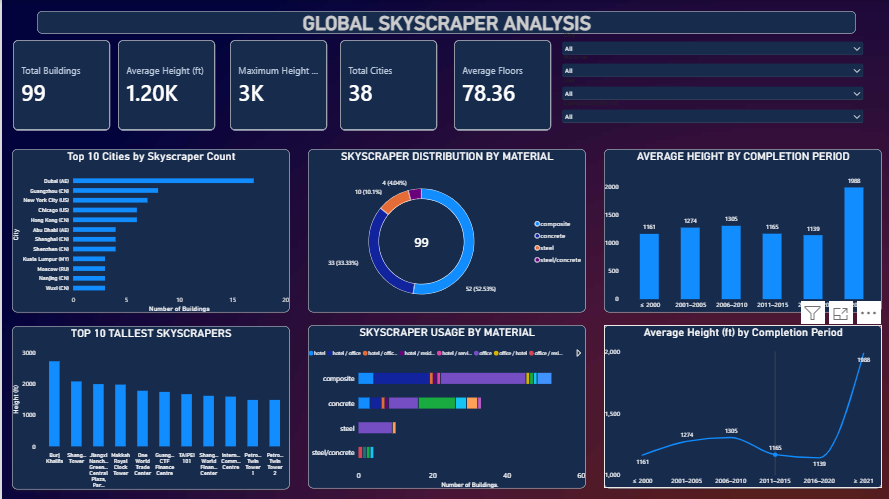

The page's visual inventory and layout, read from the dashboard file:
{"tool":"powerbi","page":{"name":"Page 1","canvas":[1920,1080],"ordinal":0},"visuals":[{"type":"cardVisual","fields":{"Data":["Skyscrapers.Total Buildings"]},"box":[24.4,86.7,210,195.6],"z":0},{"type":"cardVisual","fields":{"Data":["Skyscrapers.Average Height (ft)"]},"box":[251.3,86.5,210,195.6],"z":1000},{"type":"cardVisual","fields":{"Data":["Skyscrapers.Maximum Height (ft)"]},"box":[493.3,86.7,210,195.6],"z":2000},{"type":"cardVisual","fields":{"Data":["Skyscrapers.Total Cities"]},"box":[731.1,86.7,210,195.6],"z":3000},{"type":"cardVisual","fields":{"Data":["Skyscrapers.Average Floors"]},"box":[975.6,86.7,210,195.6],"z":4000},{"type":"textbox","title":"GLOBAL SKYSCRAPER ANALYSIS","box":[75.6,24.4,1768.9,48.9],"z":5000},{"type":"clusteredBarChart","title":"Top 10 Cities by Skyscraper Count","fields":{"Category":["Skyscrapers.City"],"Y":["CountNonNull(Skyscrapers.Building Name)"]},"box":[22.2,322.2,600,353.3],"z":6000},{"type":"clusteredColumnChart","title":"TOP 10 TALLEST SKYSCRAPERS","fields":{"Category":["Skyscrapers.Building Name"],"Y":["Sum(Skyscrapers.Height (ft))"]},"box":[22.2,704.4,600,353],"z":7000},{"type":"donutChart","title":"SKYSCRAPER DISTRIBUTION BY MATERIAL","fields":{"Category":["Skyscrapers.Material"],"Y":["CountNonNull(Skyscrapers.Building Name)"]},"box":[660,322.2,600,353.3],"z":8000},{"type":"barChart","title":"SKYSCRAPER USAGE BY MATERIAL","fields":{"Category":["Skyscrapers.Material"],"Series":["Skyscrapers.Use"],"Y":["CountNonNull(Skyscrapers.Building Name)"]},"box":[660,702.2,600,353],"z":9000},{"type":"clusteredColumnChart","title":"AVERAGE HEIGHT BY COMPLETION PERIOD","fields":{"Category":["Skyscrapers.Completion Period"],"Y":["Avg(Skyscrapers.Height (ft))"]},"box":[1300,322.2,600,353.3],"z":10000},{"type":"lineChart","fields":{"Category":["Skyscrapers.Completion Period"],"Y":["Skyscrapers.Average Height (ft)"]},"box":[1300,702,600,353],"z":11000},{"type":"slicer","fields":{"Values":["Skyscrapers.Completion Period"]},"box":[1204.4,213.3,660,64.4],"z":12000},{"type":"slicer","fields":{"Values":["Skyscrapers.Use"]},"box":[1204.4,164.4,660,64.4],"z":13000},{"type":"slicer","fields":{"Values":["Skyscrapers.Material"]},"box":[1204.4,115.6,660,64.4],"z":14000},{"type":"slicer","fields":{"Values":["Skyscrapers.City"]},"box":[1204.4,66.7,660,64.4],"z":15000}]}

Visuals, with their boxes in screenshot pixels (x1, y1, x2, y2), scaled from the page's 1920x1080 canvas onto the 889x499 screenshot:
cardVisual - Skyscrapers.Total Buildings: {"left": 11, "top": 40, "right": 109, "bottom": 130}
cardVisual - Skyscrapers.Average Height (ft): {"left": 116, "top": 40, "right": 214, "bottom": 130}
cardVisual - Skyscrapers.Maximum Height (ft): {"left": 228, "top": 40, "right": 326, "bottom": 130}
cardVisual - Skyscrapers.Total Cities: {"left": 339, "top": 40, "right": 436, "bottom": 130}
cardVisual - Skyscrapers.Average Floors: {"left": 452, "top": 40, "right": 549, "bottom": 130}
"GLOBAL SKYSCRAPER ANALYSIS" textbox: {"left": 35, "top": 11, "right": 854, "bottom": 34}
"Top 10 Cities by Skyscraper Count" clusteredBarChart: {"left": 10, "top": 149, "right": 288, "bottom": 312}
"TOP 10 TALLEST SKYSCRAPERS" clusteredColumnChart: {"left": 10, "top": 325, "right": 288, "bottom": 489}
"SKYSCRAPER DISTRIBUTION BY MATERIAL" donutChart: {"left": 306, "top": 149, "right": 583, "bottom": 312}
"SKYSCRAPER USAGE BY MATERIAL" barChart: {"left": 306, "top": 324, "right": 583, "bottom": 488}
"AVERAGE HEIGHT BY COMPLETION PERIOD" clusteredColumnChart: {"left": 602, "top": 149, "right": 880, "bottom": 312}
lineChart - Skyscrapers.Completion Period x Skyscrapers.Average Height (ft): {"left": 602, "top": 324, "right": 880, "bottom": 487}
slicer - Skyscrapers.Completion Period: {"left": 558, "top": 99, "right": 863, "bottom": 128}
slicer - Skyscrapers.Use: {"left": 558, "top": 76, "right": 863, "bottom": 106}
slicer - Skyscrapers.Material: {"left": 558, "top": 53, "right": 863, "bottom": 83}
slicer - Skyscrapers.City: {"left": 558, "top": 31, "right": 863, "bottom": 61}
